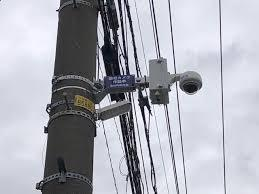maru: (177, 70, 203, 96)
